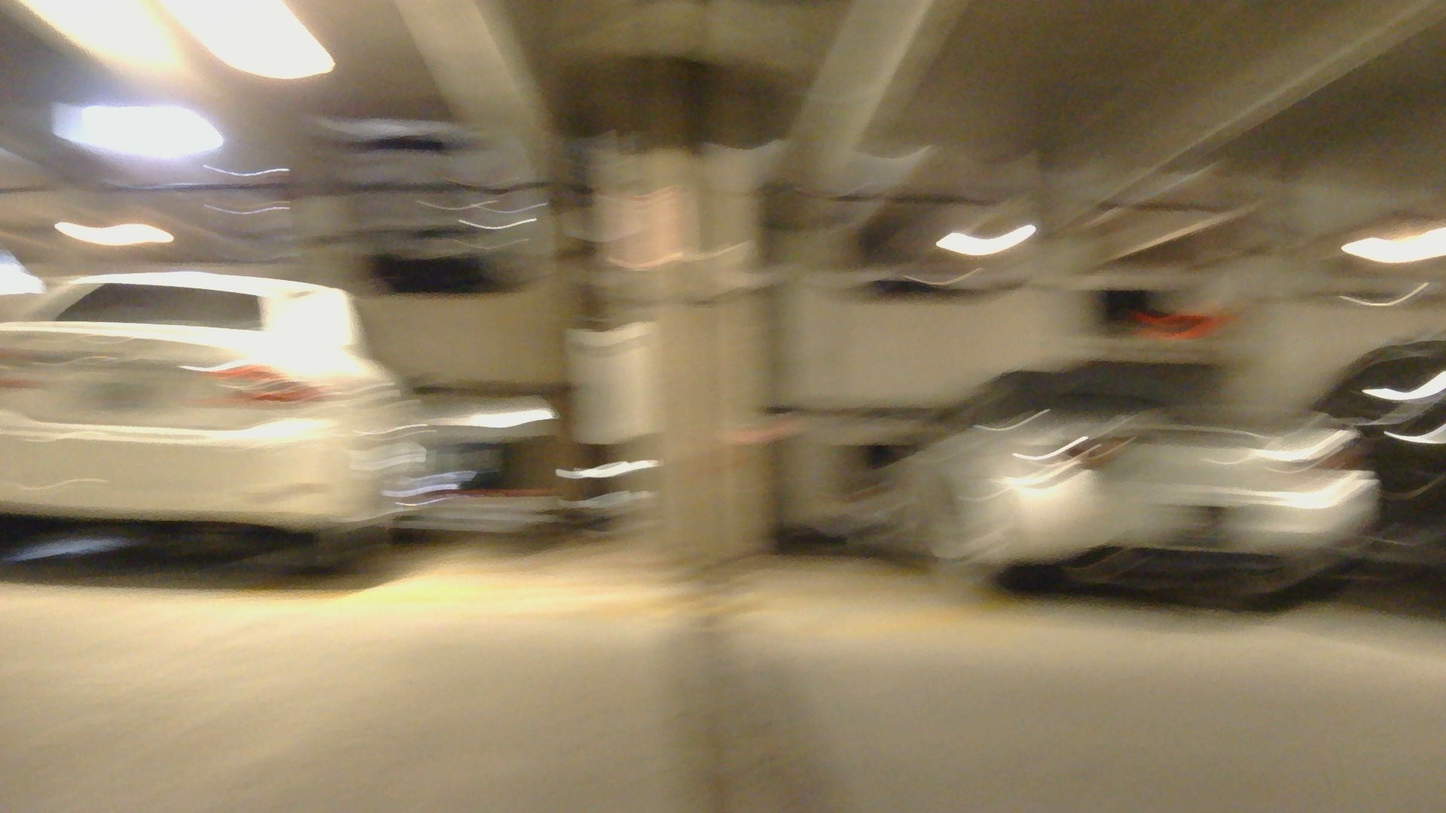occupied_spot: (0, 272, 418, 582), (858, 355, 1351, 616)
